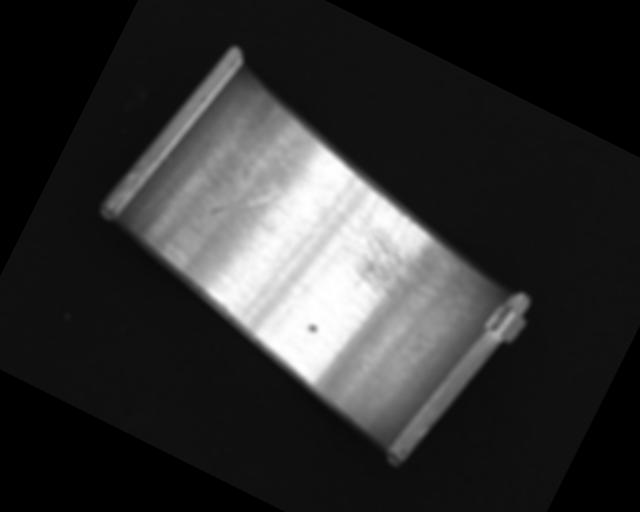bruise: (304, 321, 319, 334)
nick: (231, 206, 327, 338), (130, 149, 212, 253), (210, 171, 276, 235), (267, 138, 305, 198)
scratch: (325, 189, 479, 329)
